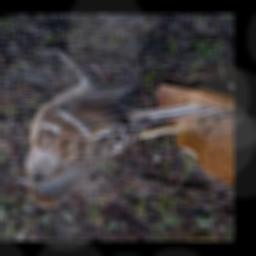Sparrow: (11, 43, 227, 211)
